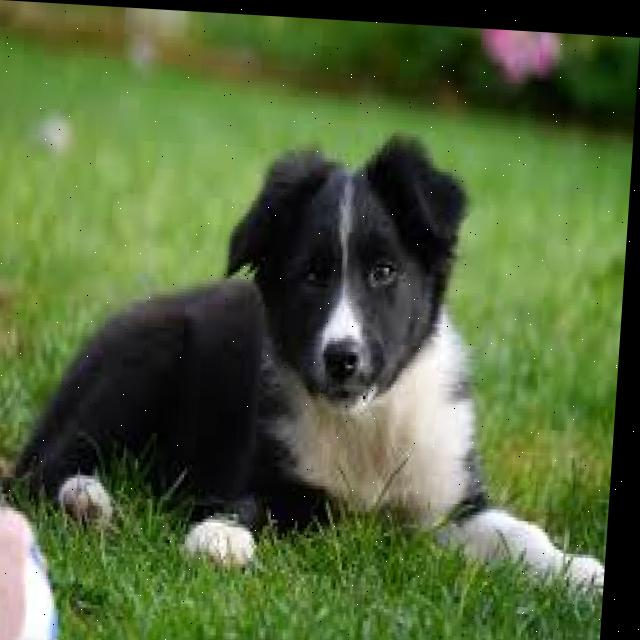BORDER_COLLIE: (0, 112, 634, 601)
